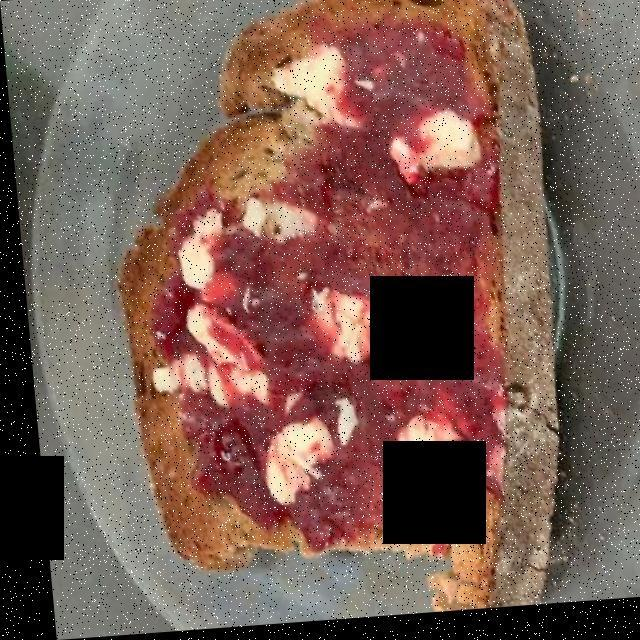bread: (120, 0, 559, 609)
jam: (146, 12, 510, 564)
